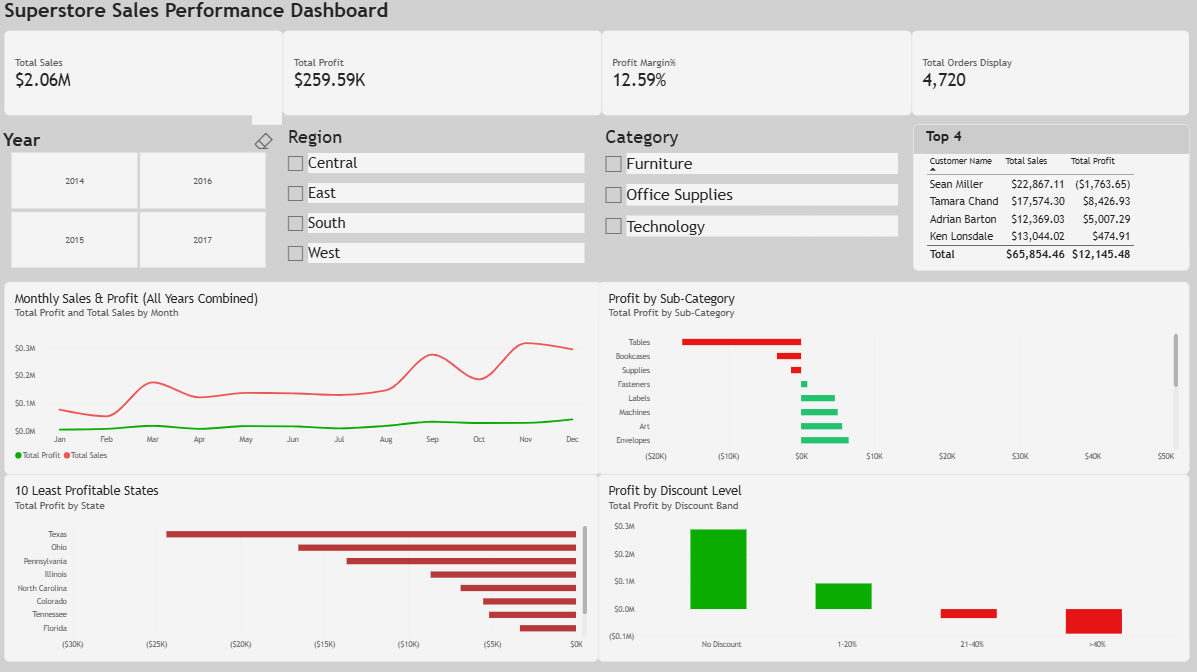

The page's visual inventory and layout, read from the dashboard file:
{"tool":"powerbi","page":{"name":"Sales Overview","canvas":[1920,1080],"ordinal":0},"visuals":[{"type":"textbox","box":[10,0,1910,52.5],"z":0},{"type":"cardVisual","fields":{"Data":["superstore_clean.Total Sales"]},"box":[10,52,446,136],"z":1000},{"type":"cardVisual","fields":{"Data":["superstore_clean.Total Profit"]},"box":[456,52,510,136],"z":2000},{"type":"cardVisual","fields":{"Data":["superstore_clean.Profit Margin%"]},"box":[966,52,496,136],"z":3000},{"type":"cardVisual","fields":{"Data":["superstore_clean.Total Orders Display"]},"box":[1462,52,444,136],"z":4000},{"type":"lineChart","title":"Monthly Sales & Profit (All Years Combined)","fields":{"Category":["superstore_clean.Month"],"Y":["superstore_clean.Total Profit","superstore_clean.Total Sales"]},"box":[10,454,956,308],"z":5000},{"type":"clusteredBarChart","title":"Profit by Sub-Category","fields":{"Category":["superstore_clean.Sub-Category"],"Y":["superstore_clean.Total Profit"]},"box":[960,454,946,308],"z":6000},{"type":"clusteredBarChart","title":"10 Least Profitable States","fields":{"Category":["superstore_clean.State"],"Y":["superstore_clean.Total Profit"]},"box":[10,762,950,300],"z":7000},{"type":"clusteredColumnChart","title":"Profit by Discount Level","fields":{"Category":["superstore_clean.Discount Band"],"Y":["superstore_clean.Total Profit"]},"box":[960,762,946,300],"z":8000},{"type":"slicer","fields":{"Values":["superstore_clean.Year"]},"box":[0,204,456,234],"z":9000},{"type":"slicer","fields":{"Values":["superstore_clean.Region"]},"box":[456,204,482,232],"z":10000},{"type":"slicer","fields":{"Values":["superstore_clean.Category"]},"box":[964,204,476,232],"z":11000},{"type":"tableEx","title":"Top 4","fields":{"Values":["superstore_clean.Customer Name","superstore_clean.Total Sales","superstore_clean.Total Profit"]},"box":[1464,202,442,234],"z":13000}]}

Visuals, with their boxes in screenshot pixels (x1, y1, x2, y2), scaled from the page's 1920x1080 canvas onto the 1197x672 screenshot:
textbox: rect(6, 0, 1196, 33)
cardVisual - superstore_clean.Total Sales: rect(6, 32, 284, 117)
cardVisual - superstore_clean.Total Profit: rect(284, 32, 602, 117)
cardVisual - superstore_clean.Profit Margin%: rect(602, 32, 911, 117)
cardVisual - superstore_clean.Total Orders Display: rect(911, 32, 1188, 117)
"Monthly Sales & Profit (All Years Combined)" lineChart: rect(6, 282, 602, 474)
"Profit by Sub-Category" clusteredBarChart: rect(598, 282, 1188, 474)
"10 Least Profitable States" clusteredBarChart: rect(6, 474, 598, 661)
"Profit by Discount Level" clusteredColumnChart: rect(598, 474, 1188, 661)
slicer - superstore_clean.Year: rect(0, 127, 284, 273)
slicer - superstore_clean.Region: rect(284, 127, 585, 271)
slicer - superstore_clean.Category: rect(601, 127, 898, 271)
"Top 4" tableEx: rect(913, 126, 1188, 271)
